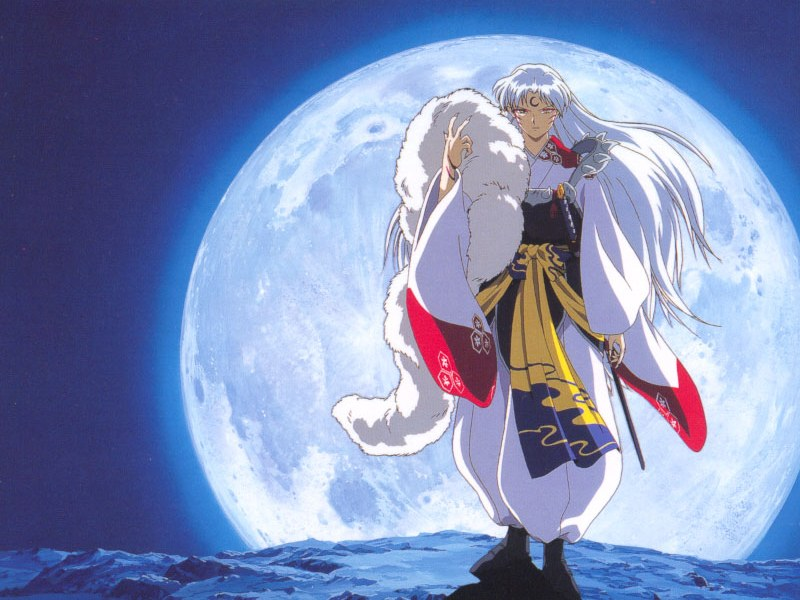sesshomaru: (482, 62, 581, 163)
